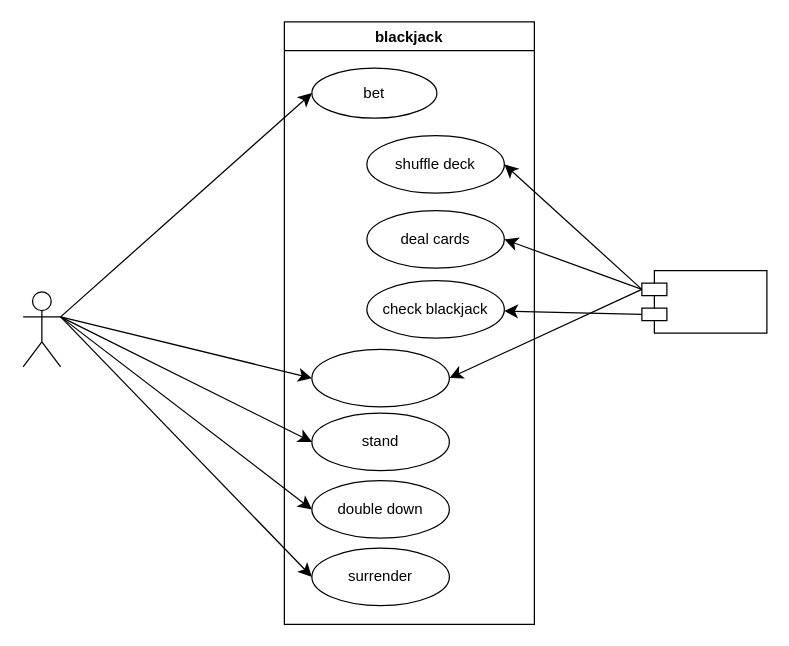
This 789x646 diagram has some shape labels left out. Each missing label, with the box of its shape:
application: (641, 269, 767, 333)
hit: (311, 348, 449, 407)
player: (22, 291, 61, 367)
